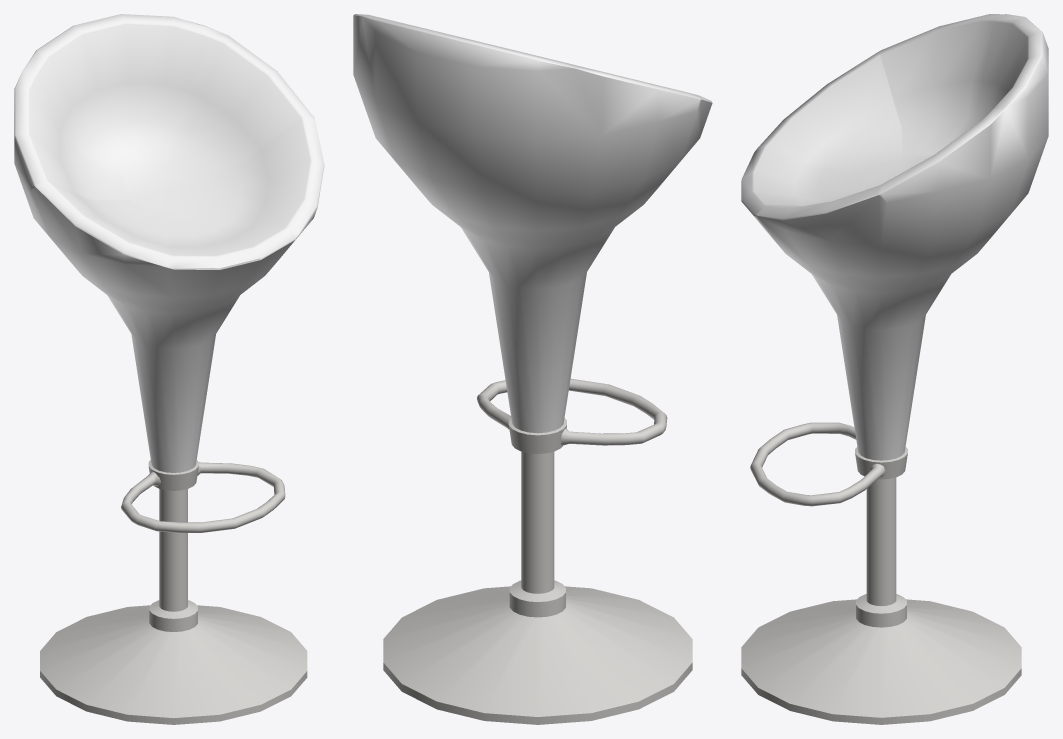
The model's file is BarChair02.FBX.
3 views of the same model, side by side, from view 1: azimuth 30°, elevation 25°; view 2: azimuth 150°, elevation 25°; view 3: azimuth 270°, elevation 25° (orthographic). The views are drawn at different scales.
Parts seen in each view (by area): view 1: BarChair02; view 2: BarChair02; view 3: BarChair02.
Part boxes in pixels (x1,y1,x2,y2): BarChair02: [14, 14, 324, 724]; BarChair02: [353, 14, 712, 724]; BarChair02: [741, 14, 1048, 724].
Bounding box in the file's own units: 51.48 × 104 × 46.6.
